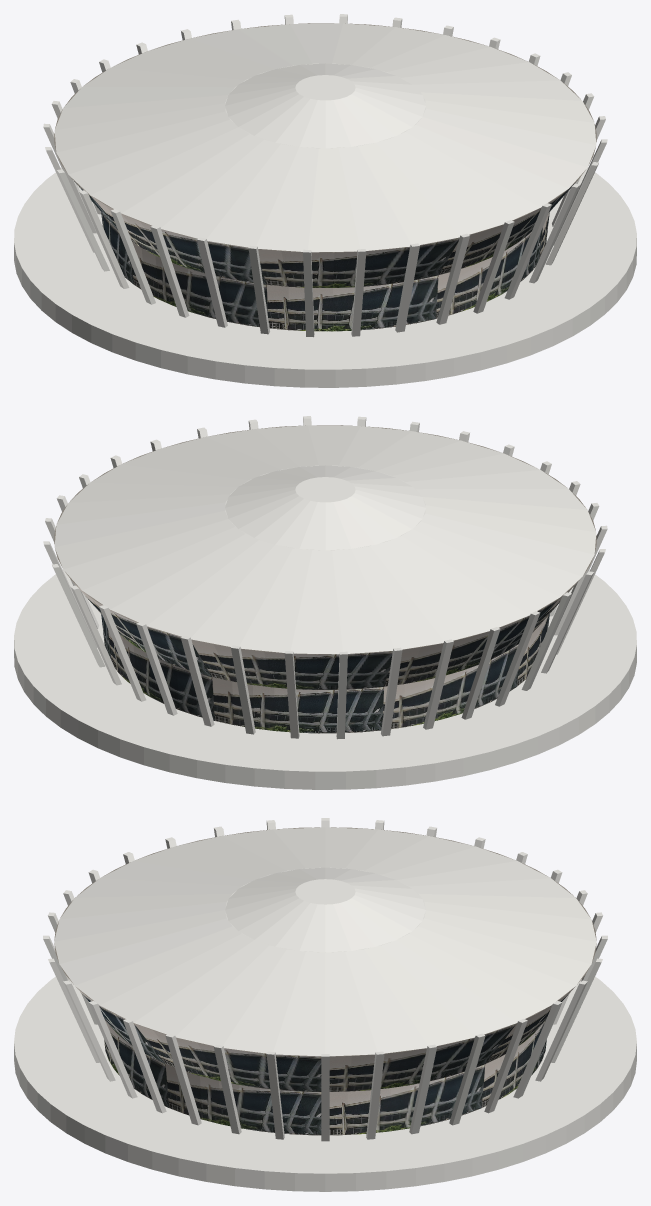
The model's file is national_theatre.glb.
The picture shows the model from 3 angles, top to bottom: view 1: azimuth 30°, elevation 25°; view 2: azimuth 150°, elevation 25°; view 3: azimuth 270°, elevation 25°; orthographic projection.
Visible parts, largest first — view 1: roof, plinth, lower, roof2, upper, rib18, rib25, rib24, rib17, rib19, rib26, rib23 (+8 smaller); view 2: roof, plinth, lower, roof2, upper, rib14, rib7, rib8, rib13, rib15, rib6, rib9 (+8 smaller); view 3: roof, plinth, lower, roof2, upper, rib3, rib29, rib4, rib28, rib2, rib30, rib5 (+8 smaller).
Part boxes in pixels (x1,y1,x2,y2): roof: [54, 23, 596, 252]; plinth: [14, 167, 636, 387]; lower: [101, 212, 549, 331]; roof2: [225, 63, 425, 148]; upper: [54, 23, 596, 287]; rib18: [150, 225, 189, 317]; rib25: [473, 220, 514, 313]; rib24: [436, 233, 469, 324]; rib17: [110, 209, 155, 304]; rib19: [197, 237, 227, 327]; rib26: [504, 203, 551, 299]; rib23: [395, 243, 419, 332]; roof: [54, 425, 596, 654]; plinth: [14, 569, 636, 789]; lower: [101, 614, 549, 733]; roof2: [225, 465, 425, 550]; upper: [54, 425, 596, 689]; rib14: [461, 627, 500, 719]; rib7: [136, 622, 177, 715]; rib8: [181, 635, 214, 726]; rib13: [423, 639, 453, 729]; rib15: [495, 611, 540, 706]; rib6: [99, 605, 146, 701]; rib9: [231, 645, 255, 734]; roof: [54, 827, 596, 1056]; plinth: [14, 976, 636, 1191]; lower: [104, 1020, 546, 1135]; roof2: [225, 867, 425, 952]; upper: [54, 827, 596, 1091]; rib3: [449, 1033, 485, 1125]; rib29: [165, 1033, 201, 1125]; rib4: [484, 1019, 527, 1113]; rib28: [123, 1019, 166, 1113]; rib2: [409, 1044, 436, 1134]; rib30: [214, 1044, 241, 1134]; rib5: [513, 1001, 562, 1098].
Size of the model in its own units: 124 by 37 by 124.
2 materials, 1 textured.
